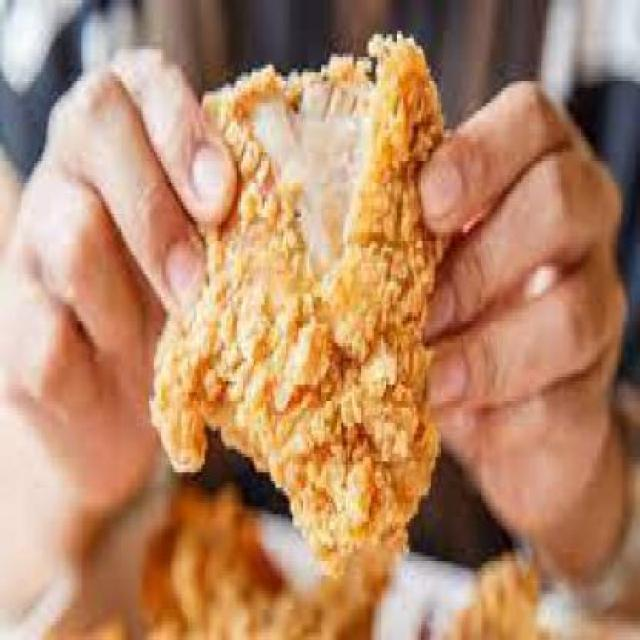Chicken -Fried Chicken-: (166, 43, 442, 565)
